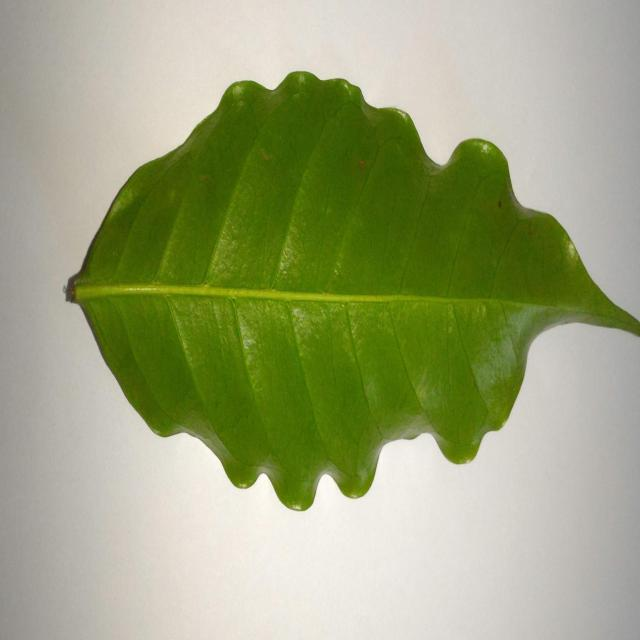nodisease: (64, 72, 640, 511)
